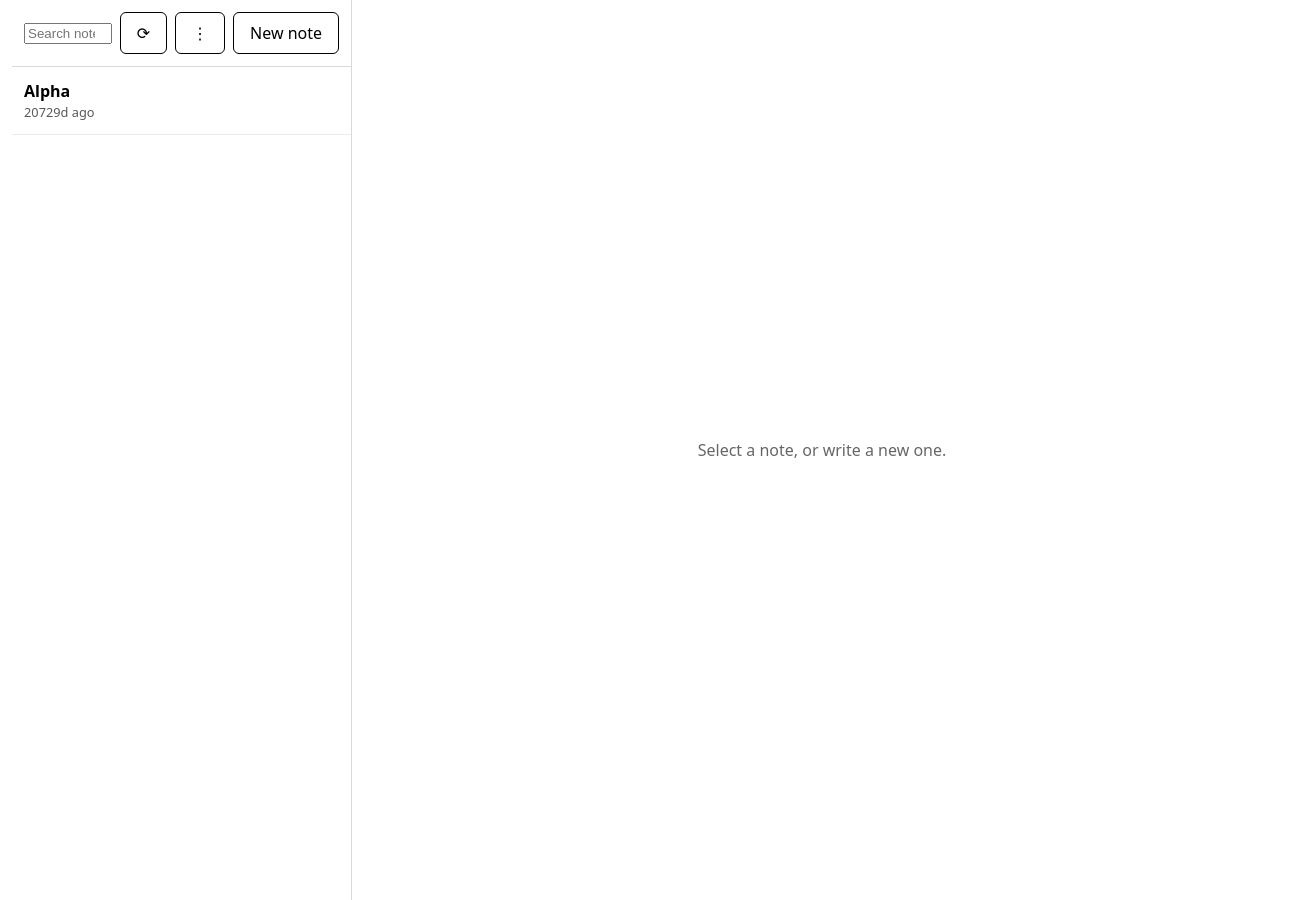
AppShell — re-seed race, title field › the re-seed and the remount land in one task with focus in Title: no gap where a stale title keystroke lands on the new base
The image size is (1292, 900).
Click the button "Alpha 20729d ago" at x=47, y=91, box [12,67,351,135]
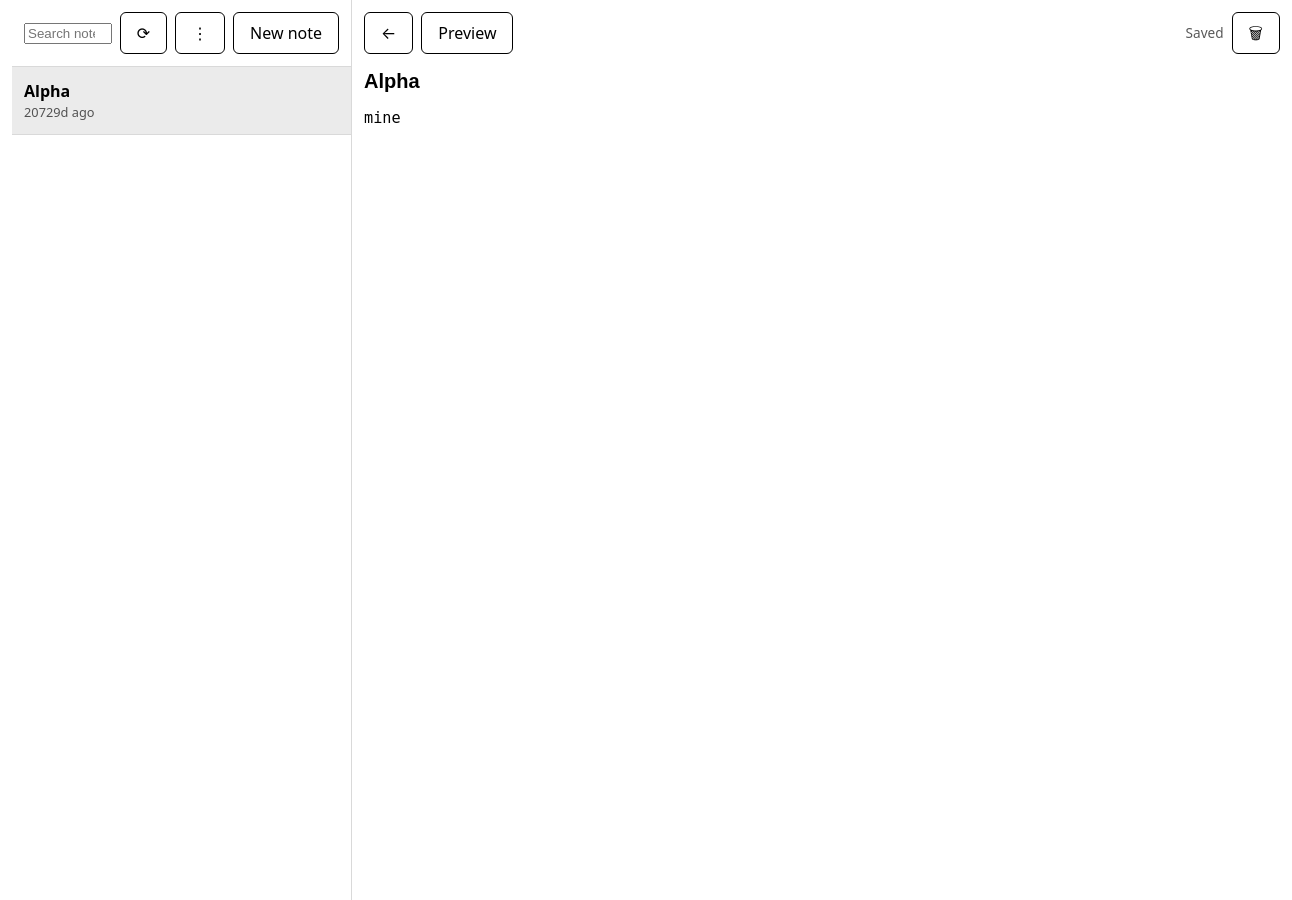
Expected: the field named "Title" is shown, [364,66,1280,97]
